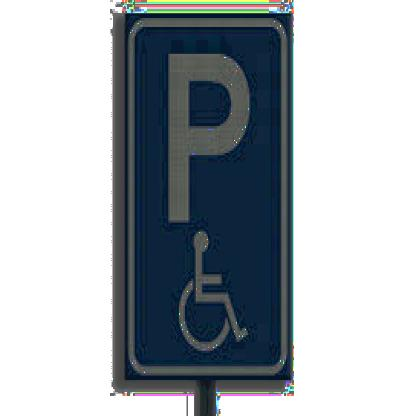Parking: (136, 26, 286, 270)
